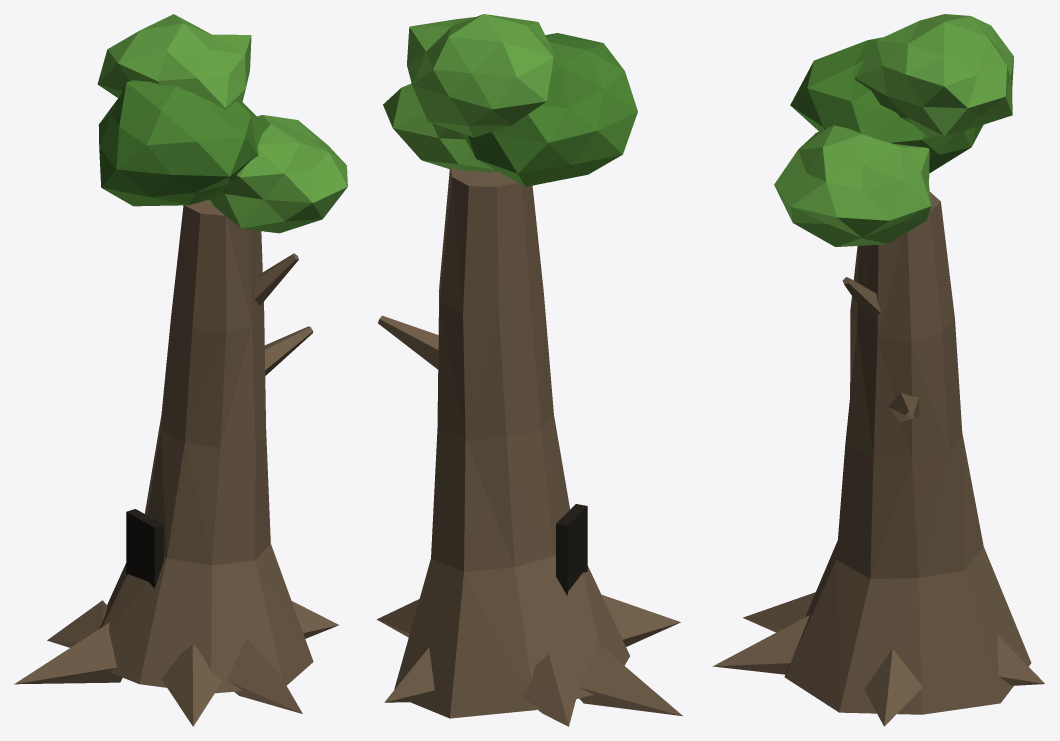
Rendered from HS_LP_Tree_Hollow_01.fbx.
The picture shows the model from 3 angles, left to right: view 1: azimuth 30°, elevation 25°; view 2: azimuth 150°, elevation 25°; view 3: azimuth 270°, elevation 25°; orthographic projection. The views are drawn at different scales.
Visible parts, largest first — view 1: HS_LP_Tree_Hollow_01; view 2: HS_LP_Tree_Hollow_01; view 3: HS_LP_Tree_Hollow_01.
Boxes of the visible parts, x1,y1,x2,y2 form: HS_LP_Tree_Hollow_01: (14,14,347,726); HS_LP_Tree_Hollow_01: (377,14,682,726); HS_LP_Tree_Hollow_01: (713,14,1044,726).
Bounding box in the file's own units: 244 × 481 × 221.
